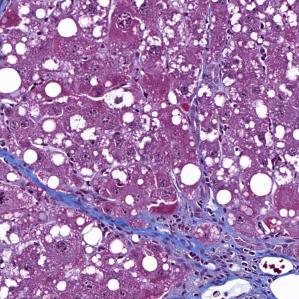fibrosis: (157, 200, 263, 287)
